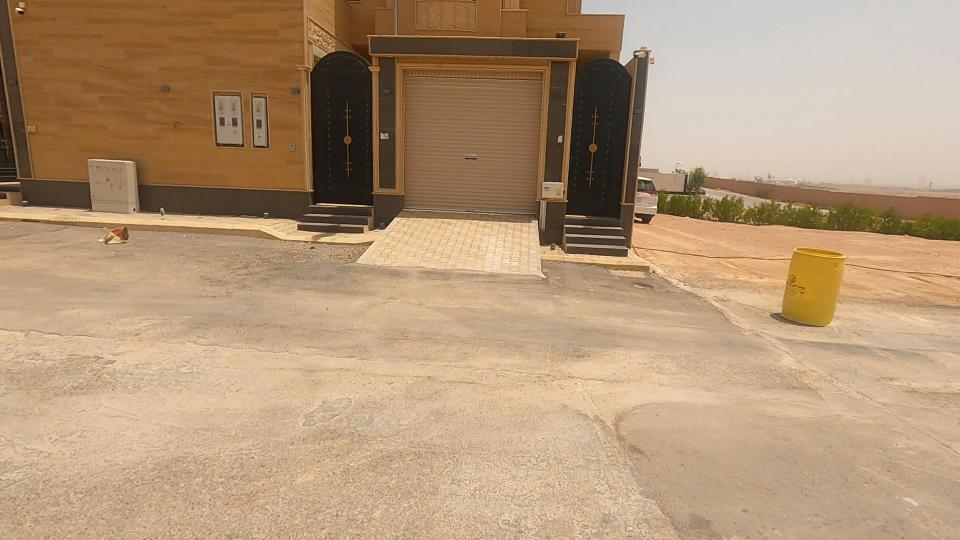GARBAGE: (54, 195, 169, 280)
